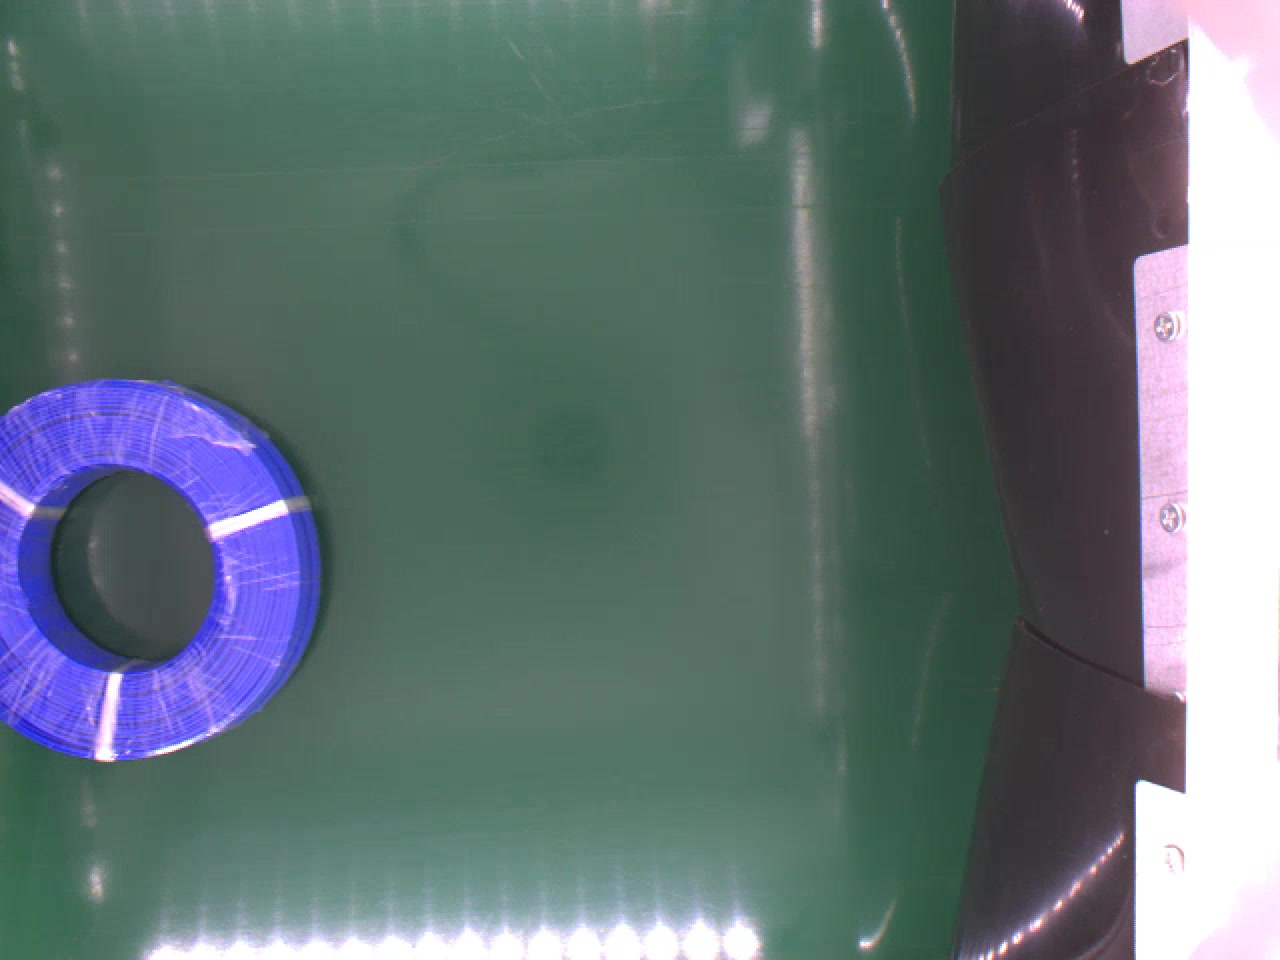blue: (0, 372, 324, 764)
